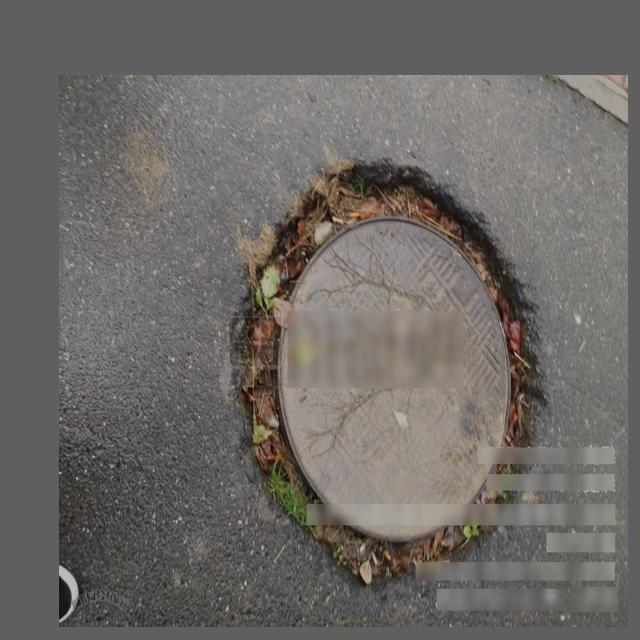circle: (230, 164, 549, 579)
